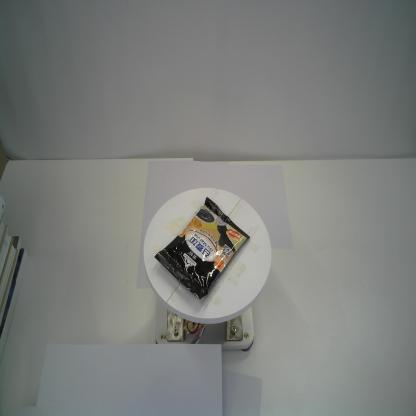Instant Drink: (154, 196, 250, 300)
